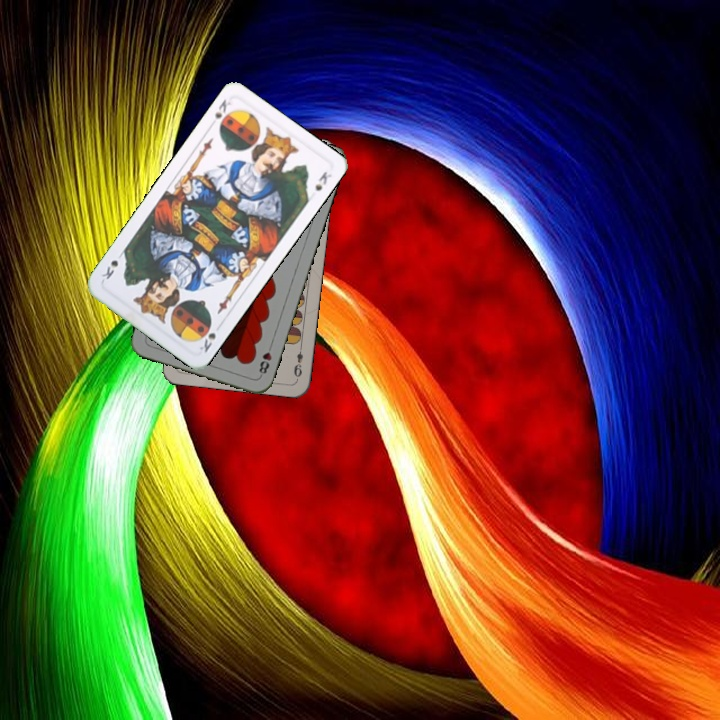E9: (290, 341, 306, 382)
H8: (255, 339, 275, 379)
SK: (207, 94, 235, 132), (195, 329, 218, 355)
